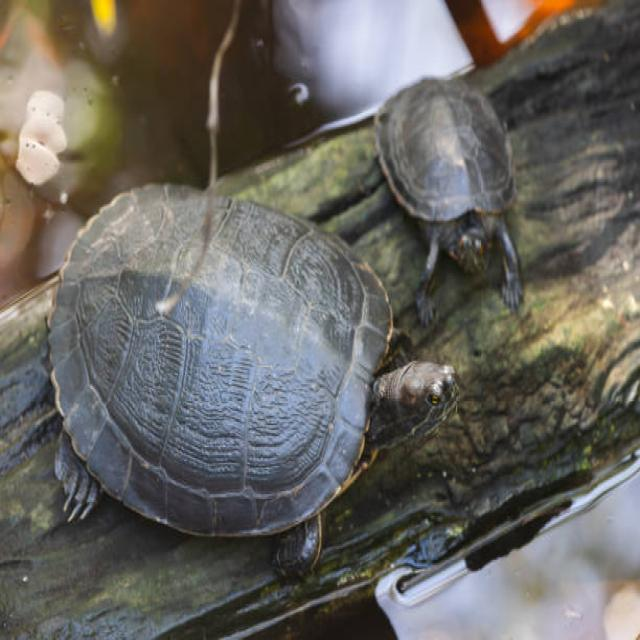terrapin: (26, 171, 401, 615), (370, 59, 558, 319), (50, 429, 123, 539), (381, 344, 464, 436), (438, 209, 494, 281)
